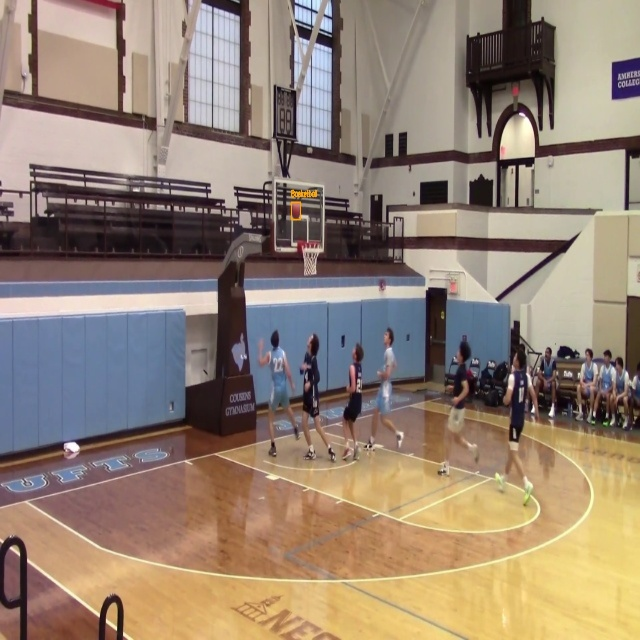Basketball: (291, 203, 301, 220)
